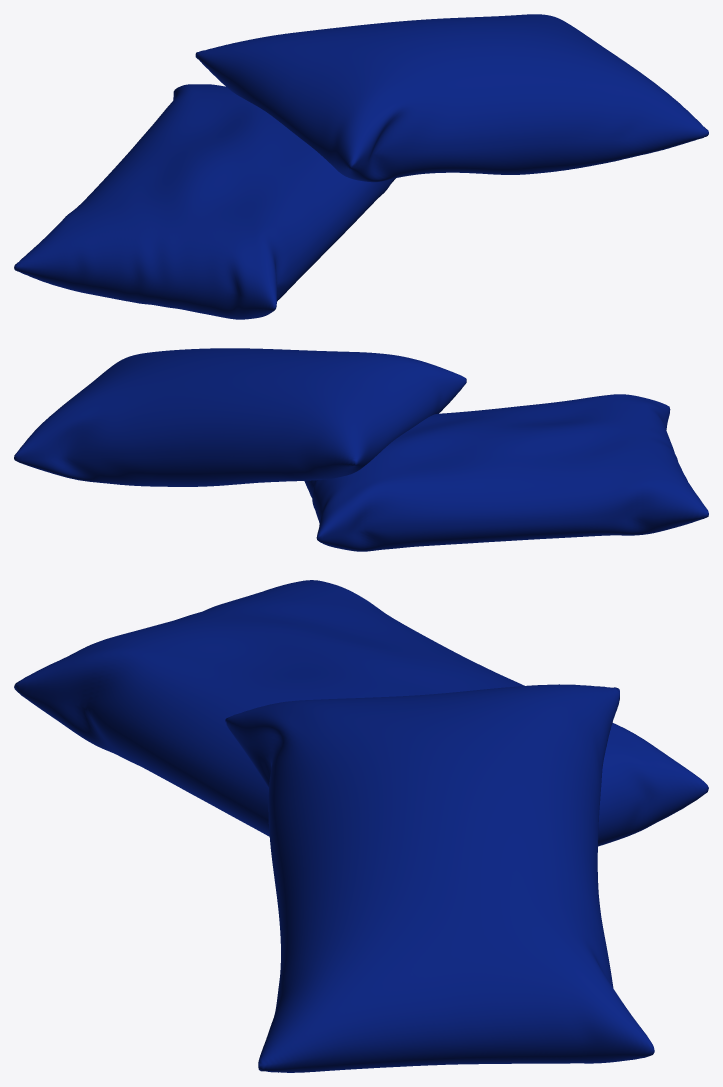
File: EH DoublePillows.fbx
3 renders of one model, top to bottom at view 1: azimuth 30°, elevation 25°; view 2: azimuth 150°, elevation 25°; view 3: azimuth 270°, elevation 25°, orthographic. The views are drawn at different scales.
Parts seen in each view (by area): view 1: Pillow 2, Pillow 1; view 2: Pillow 2, Pillow 1; view 3: Pillow 2, Pillow 1.
Part boxes in pixels (box(x1,y1,x2,y2)): Pillow 2: box(195, 14, 708, 182); Pillow 1: box(14, 84, 395, 319); Pillow 2: box(14, 348, 466, 486); Pillow 1: box(304, 394, 708, 551); Pillow 2: box(225, 684, 654, 1072); Pillow 1: box(14, 580, 708, 846).
Bounding box in the file's own units: 56.18 × 10.98 × 35.65.
